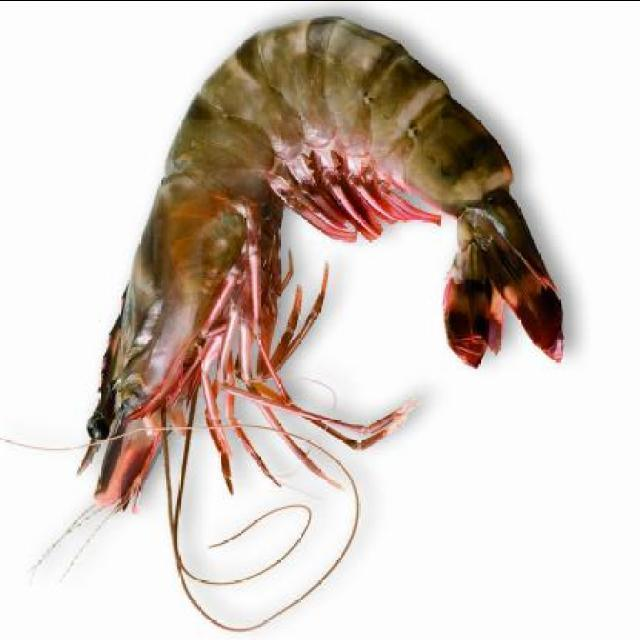shrimp: (63, 13, 570, 529)
